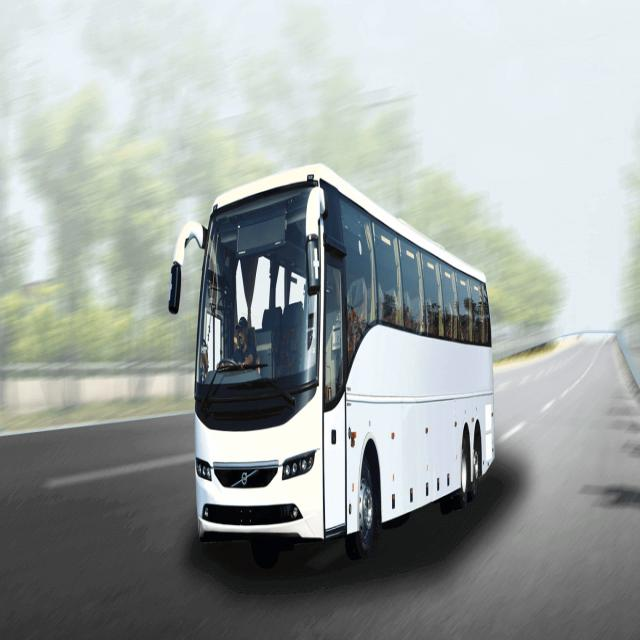bus: (170, 168, 496, 563)
